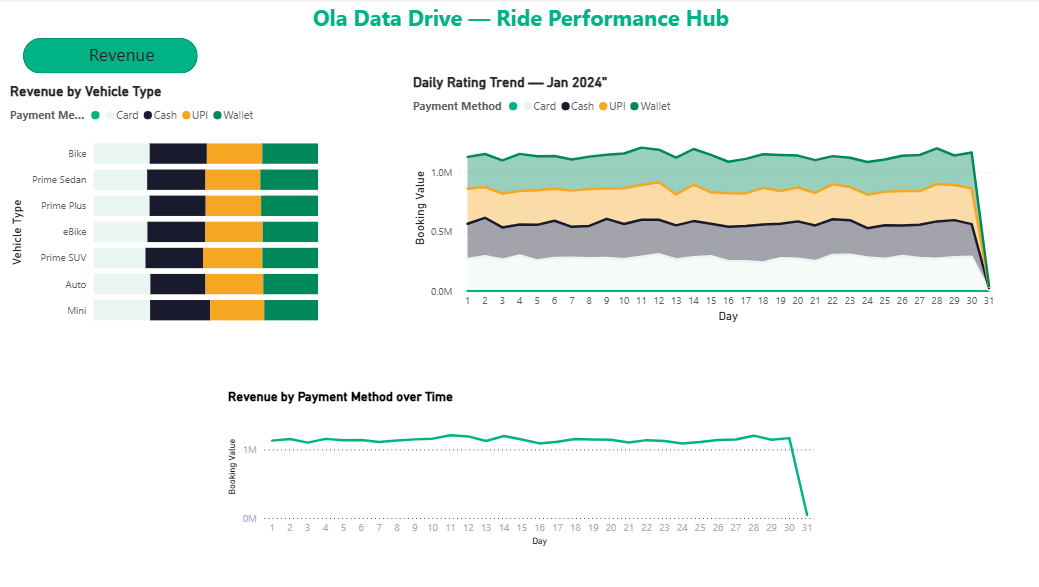

Layout of this report page (visuals, bound fields, positions):
{"tool":"powerbi","page":{"name":"Revenue","canvas":[1280,720],"ordinal":2},"visuals":[{"type":"hundredPercentStackedBarChart","title":"Revenue by Vehicle Type","fields":{"Category":["ola_clean.Vehicle Type"],"Y":["Sum(ola_clean.Booking_Value)"],"Series":["ola_clean.Payment Method"]},"box":[10.9,103.2,385.8,308.4],"z":0},{"type":"stackedAreaChart","title":"Daily Rating Trend — Jan 2024\"","fields":{"Category":["ola_clean.Date.Variation.Date Hierarchy.Day"],"Y":["Sum(ola_clean.Booking_Value)"],"Series":["ola_clean.Payment Method"]},"box":[502.6,92.4,721.4,308.4],"z":1000},{"type":"lineChart","title":"Revenue by Payment Method over Time","fields":{"Category":["ola_clean.DateTime.Variation.Date Hierarchy.Day"],"Y":["Sum(ola_clean.Booking_Value)"]},"box":[277.3,477,725.3,196.6],"z":2000},{"type":"textbox","box":[204.2,0,871.6,62.5],"z":3000},{"type":"shape","box":[31.2,48.9,213.3,43.5],"z":4000},{"type":"textbox","box":[28.5,48.9,248.6,43.5],"z":5000}]}

Visuals, with their boxes in screenshot pixels (x1, y1, x2, y2), scaled from the page's 1280x720 canvas onto the 1039x587 screenshot:
"Revenue by Vehicle Type" hundredPercentStackedBarChart: <bbox>9, 84, 322, 336</bbox>
"Daily Rating Trend — Jan 2024"" stackedAreaChart: <bbox>408, 75, 994, 327</bbox>
"Revenue by Payment Method over Time" lineChart: <bbox>225, 389, 814, 549</bbox>
textbox: <bbox>166, 0, 873, 51</bbox>
shape: <bbox>25, 40, 198, 75</bbox>
textbox: <bbox>23, 40, 225, 75</bbox>
